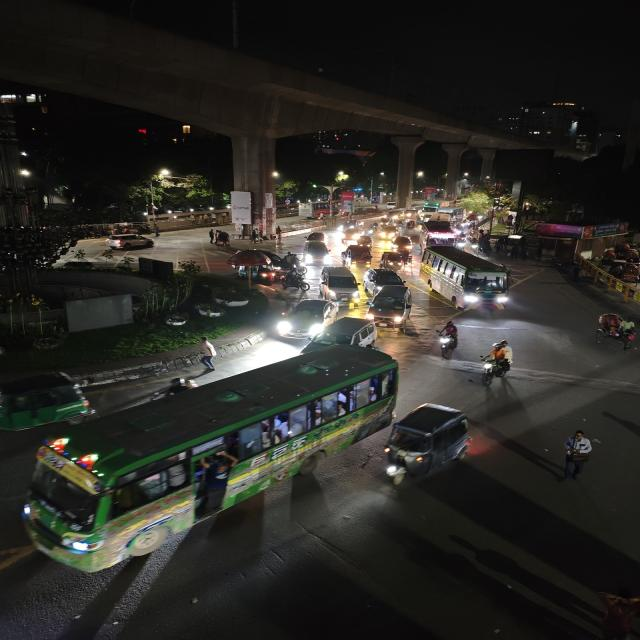bus: (16, 341, 402, 573), (418, 245, 515, 313)
car: (362, 268, 416, 328), (273, 298, 339, 340), (315, 316, 380, 352), (318, 264, 361, 302), (102, 231, 156, 252), (419, 219, 458, 241), (300, 239, 333, 265), (390, 238, 414, 252), (340, 229, 364, 241)
cng: (383, 401, 476, 483), (0, 369, 95, 432), (379, 250, 408, 272), (357, 236, 375, 249)
motorcycle: (476, 339, 519, 387), (432, 318, 462, 360), (278, 266, 312, 293)
pedestrian: (552, 428, 604, 482), (183, 337, 224, 374)
pickup_van: (342, 244, 374, 270)
rickshaw: (591, 311, 639, 353), (206, 228, 232, 250), (378, 225, 401, 241)
